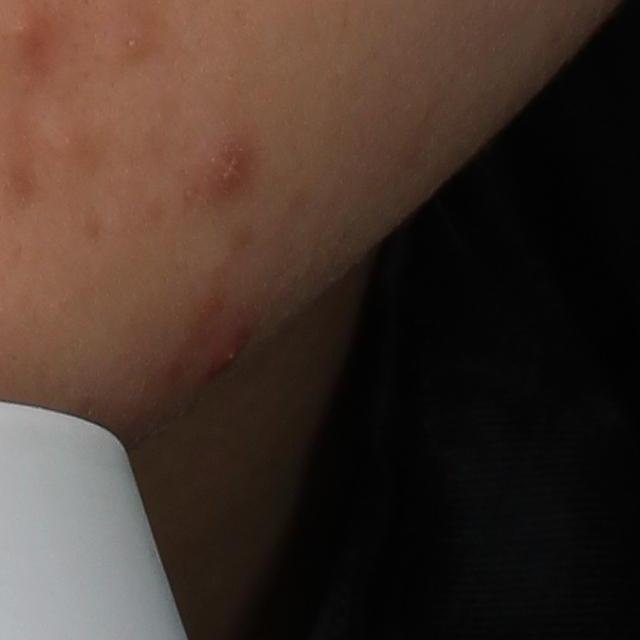papule: (95, 4, 170, 68), (202, 136, 257, 208), (202, 326, 244, 375)
